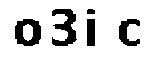3: (50, 5, 78, 49)
c: (116, 15, 142, 53)
i: (85, 6, 102, 48)
o: (12, 12, 45, 49)
